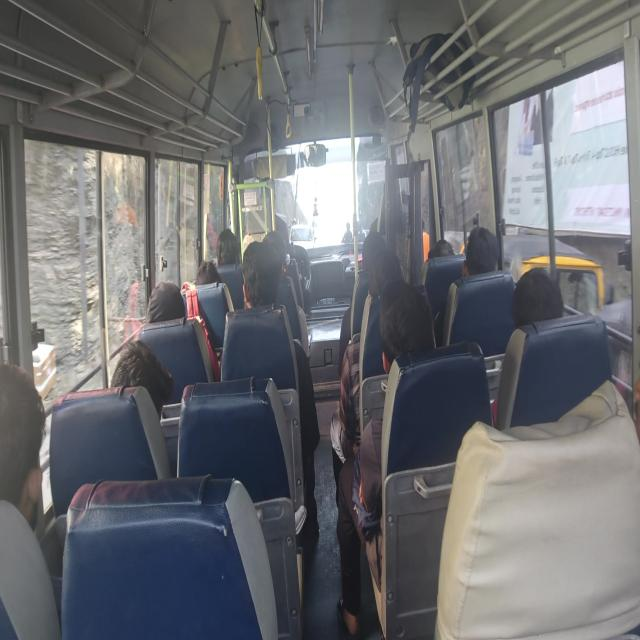person: (434, 378, 639, 638), (336, 279, 436, 636), (240, 240, 320, 539), (330, 248, 404, 506), (0, 362, 62, 638), (490, 266, 564, 426), (0, 361, 46, 533), (436, 226, 500, 346), (338, 230, 386, 375), (110, 339, 174, 419), (511, 266, 564, 328), (242, 240, 280, 308), (462, 226, 501, 276), (145, 280, 187, 323), (262, 230, 288, 276), (216, 228, 240, 266), (194, 260, 222, 286), (428, 239, 454, 259)
